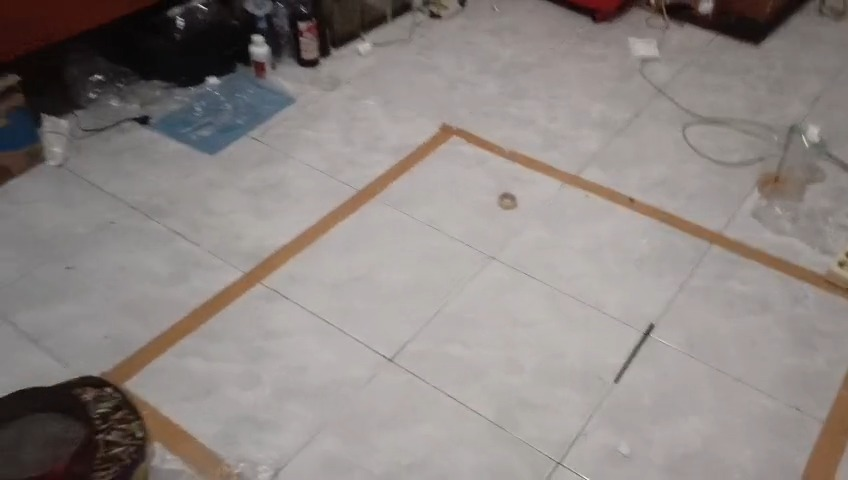floor marking: (104, 124, 847, 381), (137, 400, 227, 475), (803, 372, 847, 479)
